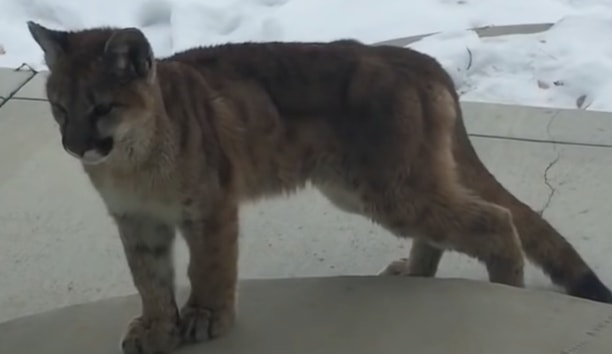Mountain Lion: (21, 7, 601, 329)
